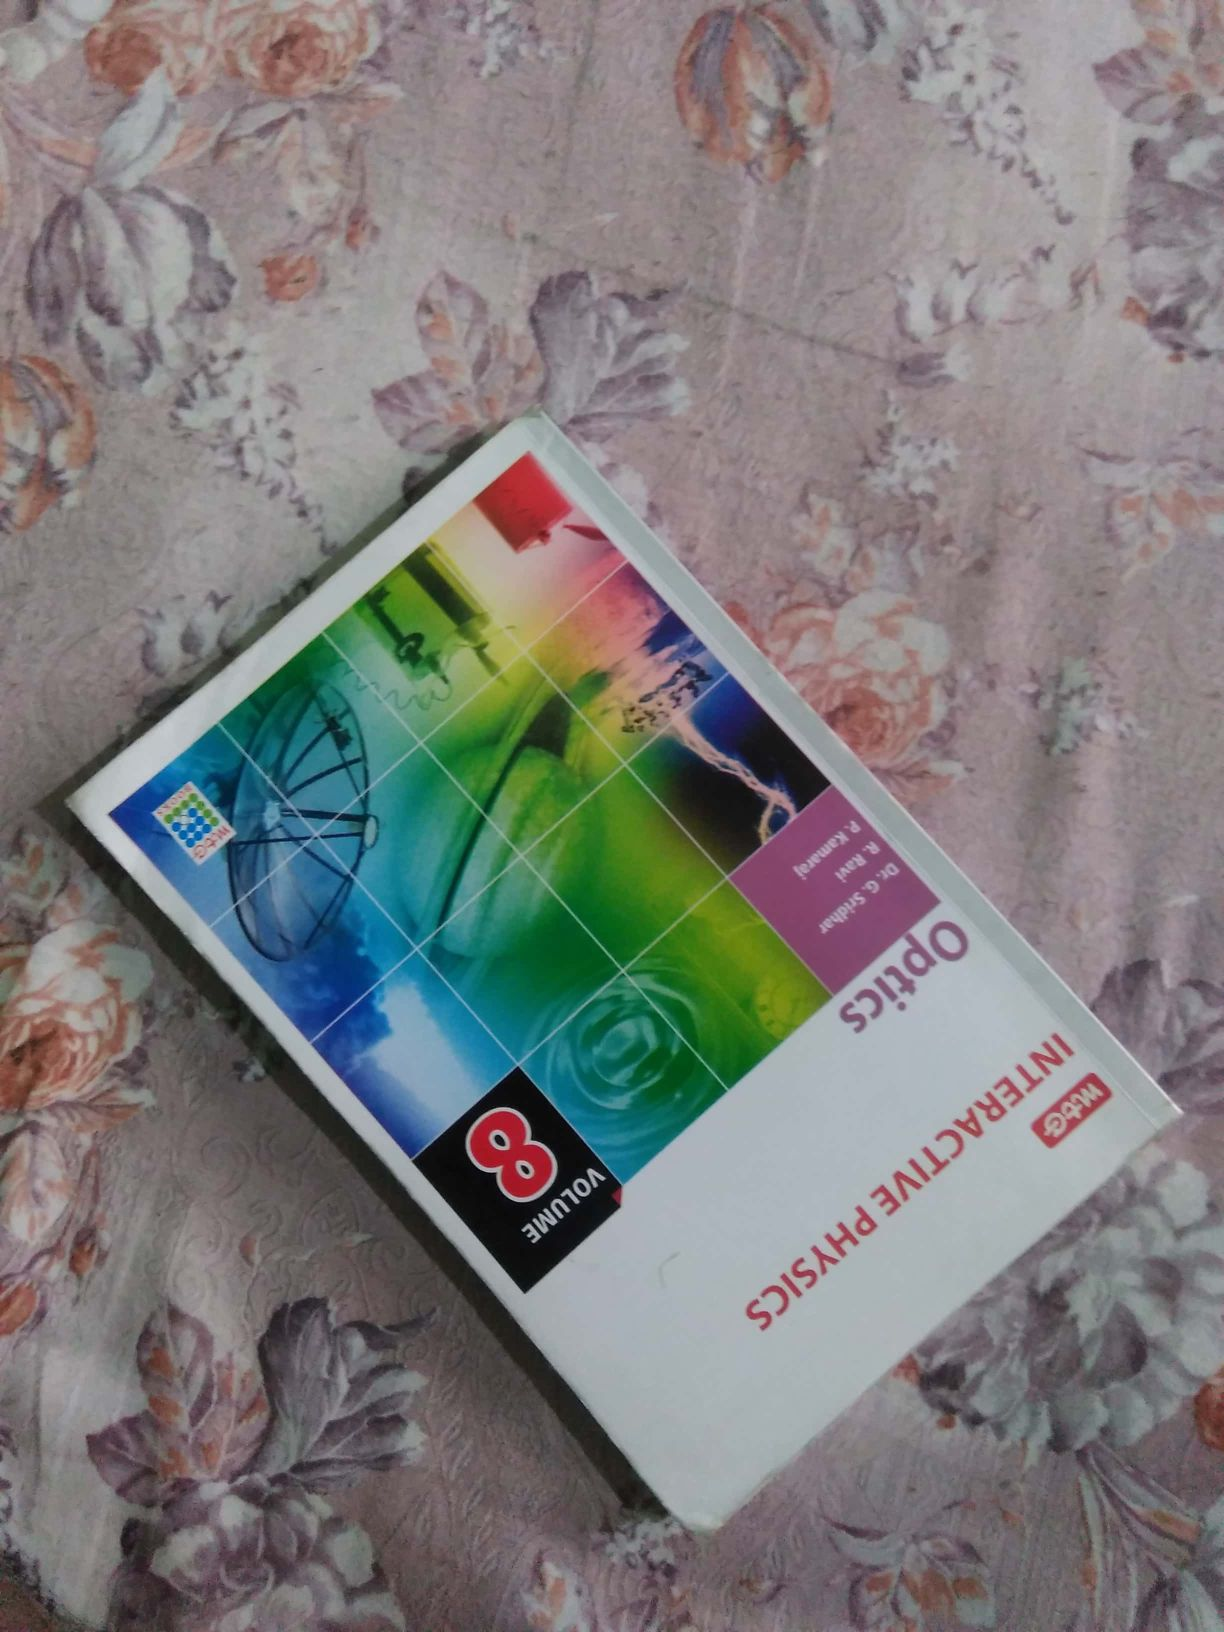optics: (64, 478, 1173, 1507)
